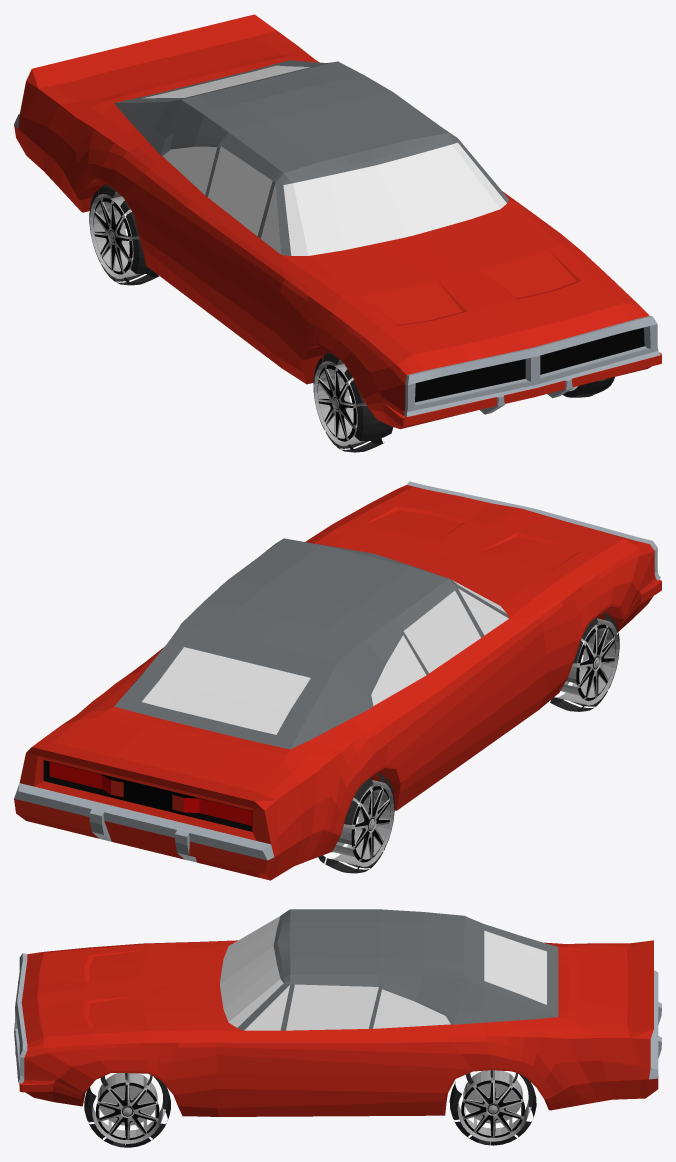
Rendered from dodge-charger-1969.glb.
3 views of the same model, one above another, from view 1: azimuth 30°, elevation 25°; view 2: azimuth 150°, elevation 25°; view 3: azimuth 270°, elevation 25° (orthographic). The views are drawn at different scales.
Visible parts, largest first — view 1: Plane_Plane.002, CG_wheel_1, CG_wheel_0; view 2: Plane_Plane.002, CG_wheel_0, CG_wheel_1; view 3: Plane_Plane.002, CG_wheel_3, CG_wheel_2.
Part boxes in pixels (<box>): Plane_Plane.002: <box>14,14,661,429</box>; CG_wheel_1: <box>313,352,393,452</box>; CG_wheel_0: <box>89,184,159,285</box>; Plane_Plane.002: <box>14,481,661,880</box>; CG_wheel_0: <box>318,772,394,873</box>; CG_wheel_1: <box>550,611,619,711</box>; Plane_Plane.002: <box>14,909,661,1116</box>; CG_wheel_3: <box>449,1070,536,1145</box>; CG_wheel_2: <box>84,1073,170,1147</box>.
Size of the model in its own units: 2.08 by 1.44 by 5.28.
